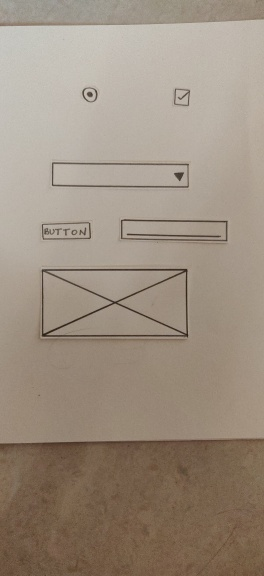button: (38, 219, 96, 242)
checkbox: (169, 84, 194, 111)
dropdown: (46, 158, 193, 194)
img: (36, 264, 191, 342)
radio: (78, 81, 102, 106)
text: (116, 215, 233, 247)
